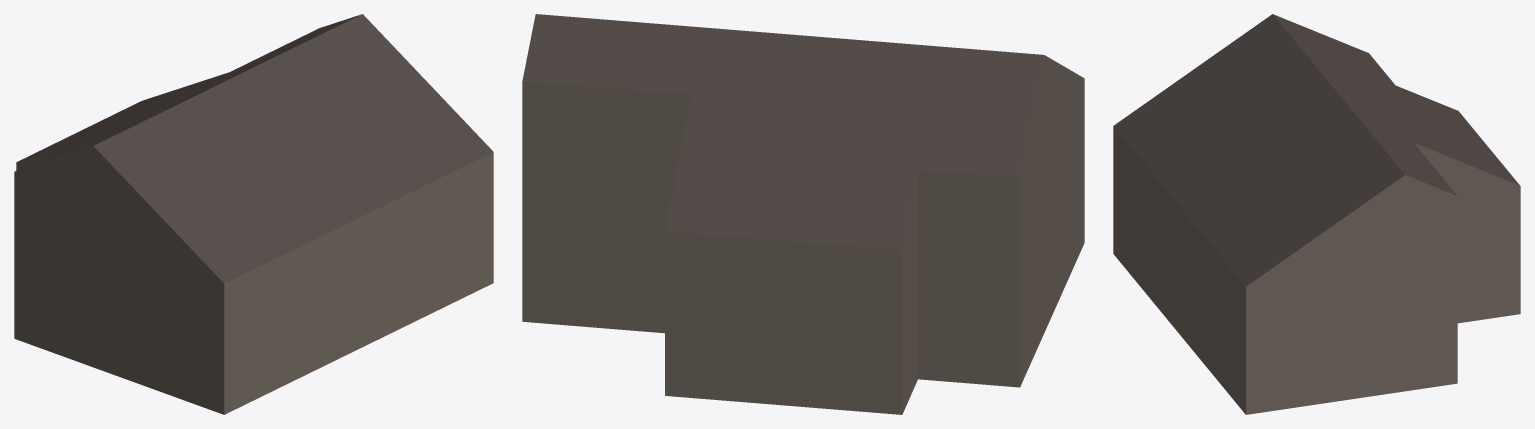
3 views of the same model, side by side, from view 1: azimuth 30°, elevation 25°; view 2: azimuth 150°, elevation 25°; view 3: azimuth 270°, elevation 25° (orthographic). The views are drawn at different scales.
Parts seen in each view (by area): view 1: HP-w1376988772; view 2: HP-w1376988772; view 3: HP-w1376988772.
Part boxes in pixels (box(x1,y1,x2,y2)): HP-w1376988772: box(14, 14, 493, 414); HP-w1376988772: box(522, 14, 1084, 414); HP-w1376988772: box(1113, 14, 1520, 414).
Size of the model in its own units: 19.96 by 10.14 by 17.27.
